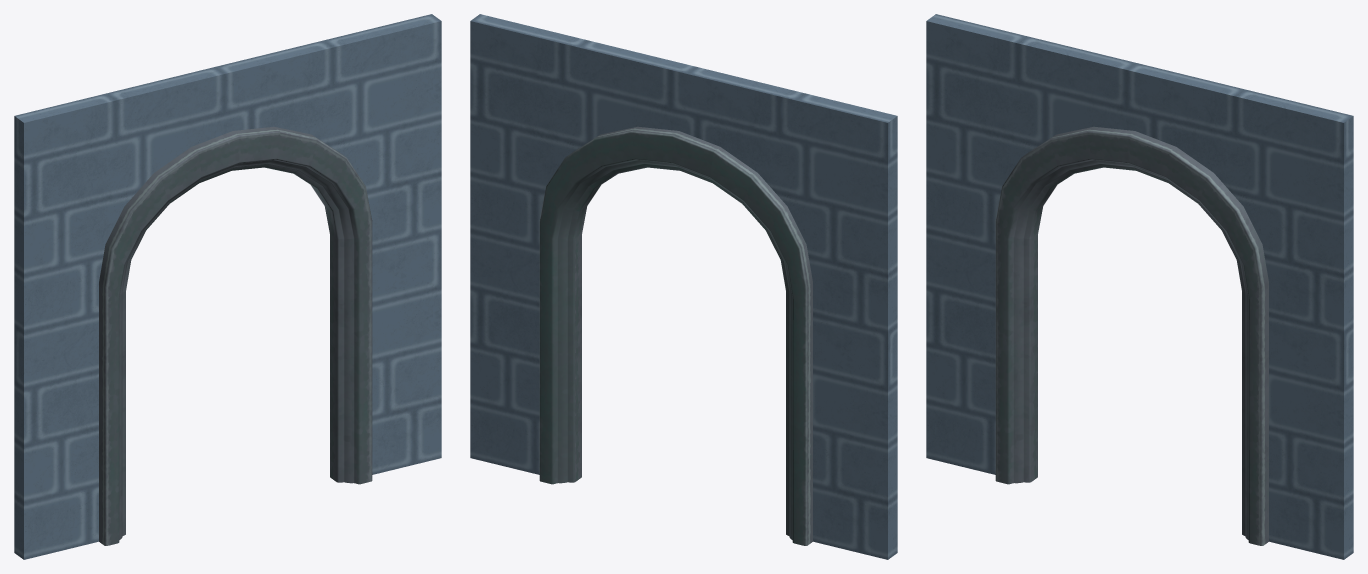
Rendered from Wall_Doorway.fbx.
The picture shows the model from 3 angles, left to right: view 1: azimuth 30°, elevation 25°; view 2: azimuth 150°, elevation 25°; view 3: azimuth 330°, elevation 25°; orthographic projection.
Visible parts, largest first — view 1: Wall_Doorway; view 2: Wall_Doorway; view 3: Wall_Doorway.
Boxes of the visible parts, x1,y1,x2,y2 form: Wall_Doorway: (14, 14, 441, 559); Wall_Doorway: (470, 14, 897, 559); Wall_Doorway: (926, 14, 1353, 559).
Size of the model in its own units: 500 by 500 by 47.04.
2 materials, 2 textured.
